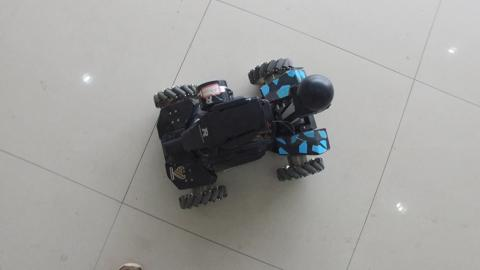chariot: (145, 46, 337, 220)
